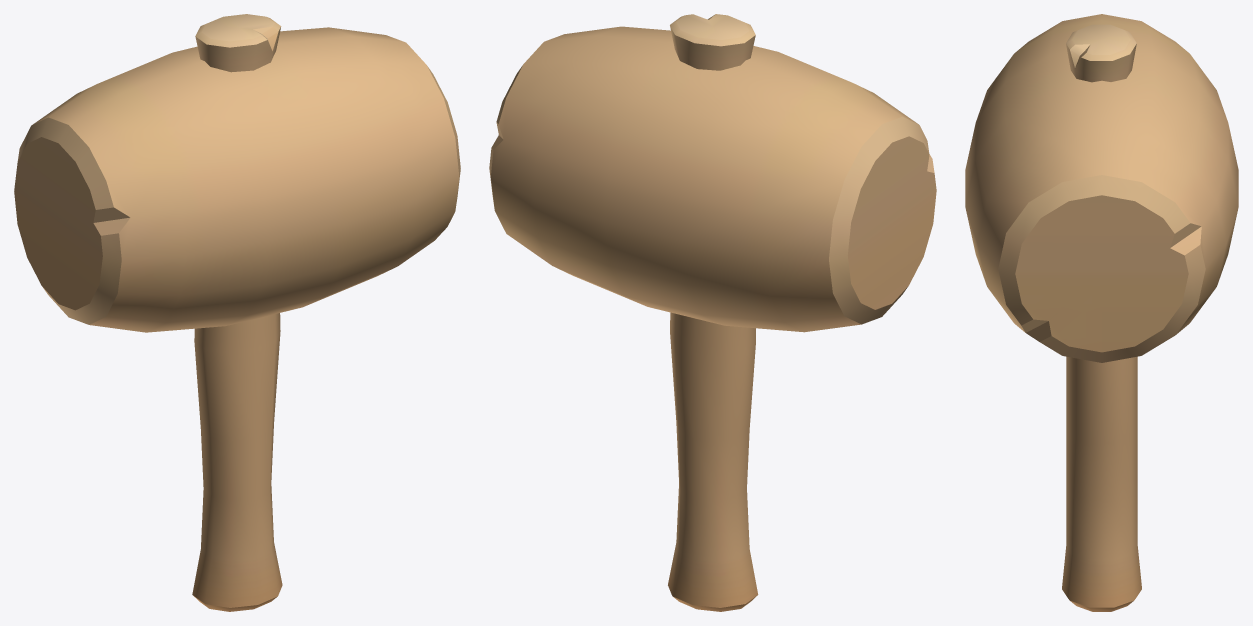
Rendered from mallet.glb.
3 renders of one model, left to right at view 1: azimuth 30°, elevation 25°; view 2: azimuth 150°, elevation 25°; view 3: azimuth 270°, elevation 25°, orthographic. The views are drawn at different scales.
Parts seen in each view (by area): view 1: mallet; view 2: mallet; view 3: mallet.
Boxes of the visible parts, x1=… form: mallet: x1=14, y1=14, x2=460, y2=611; mallet: x1=489, y1=14, x2=936, y2=611; mallet: x1=965, y1=14, x2=1238, y2=611.
Bounding box in the file's own units: 0.6424 × 0.9835 × 0.4349.
Materials: 1 (1 with a texture image).
